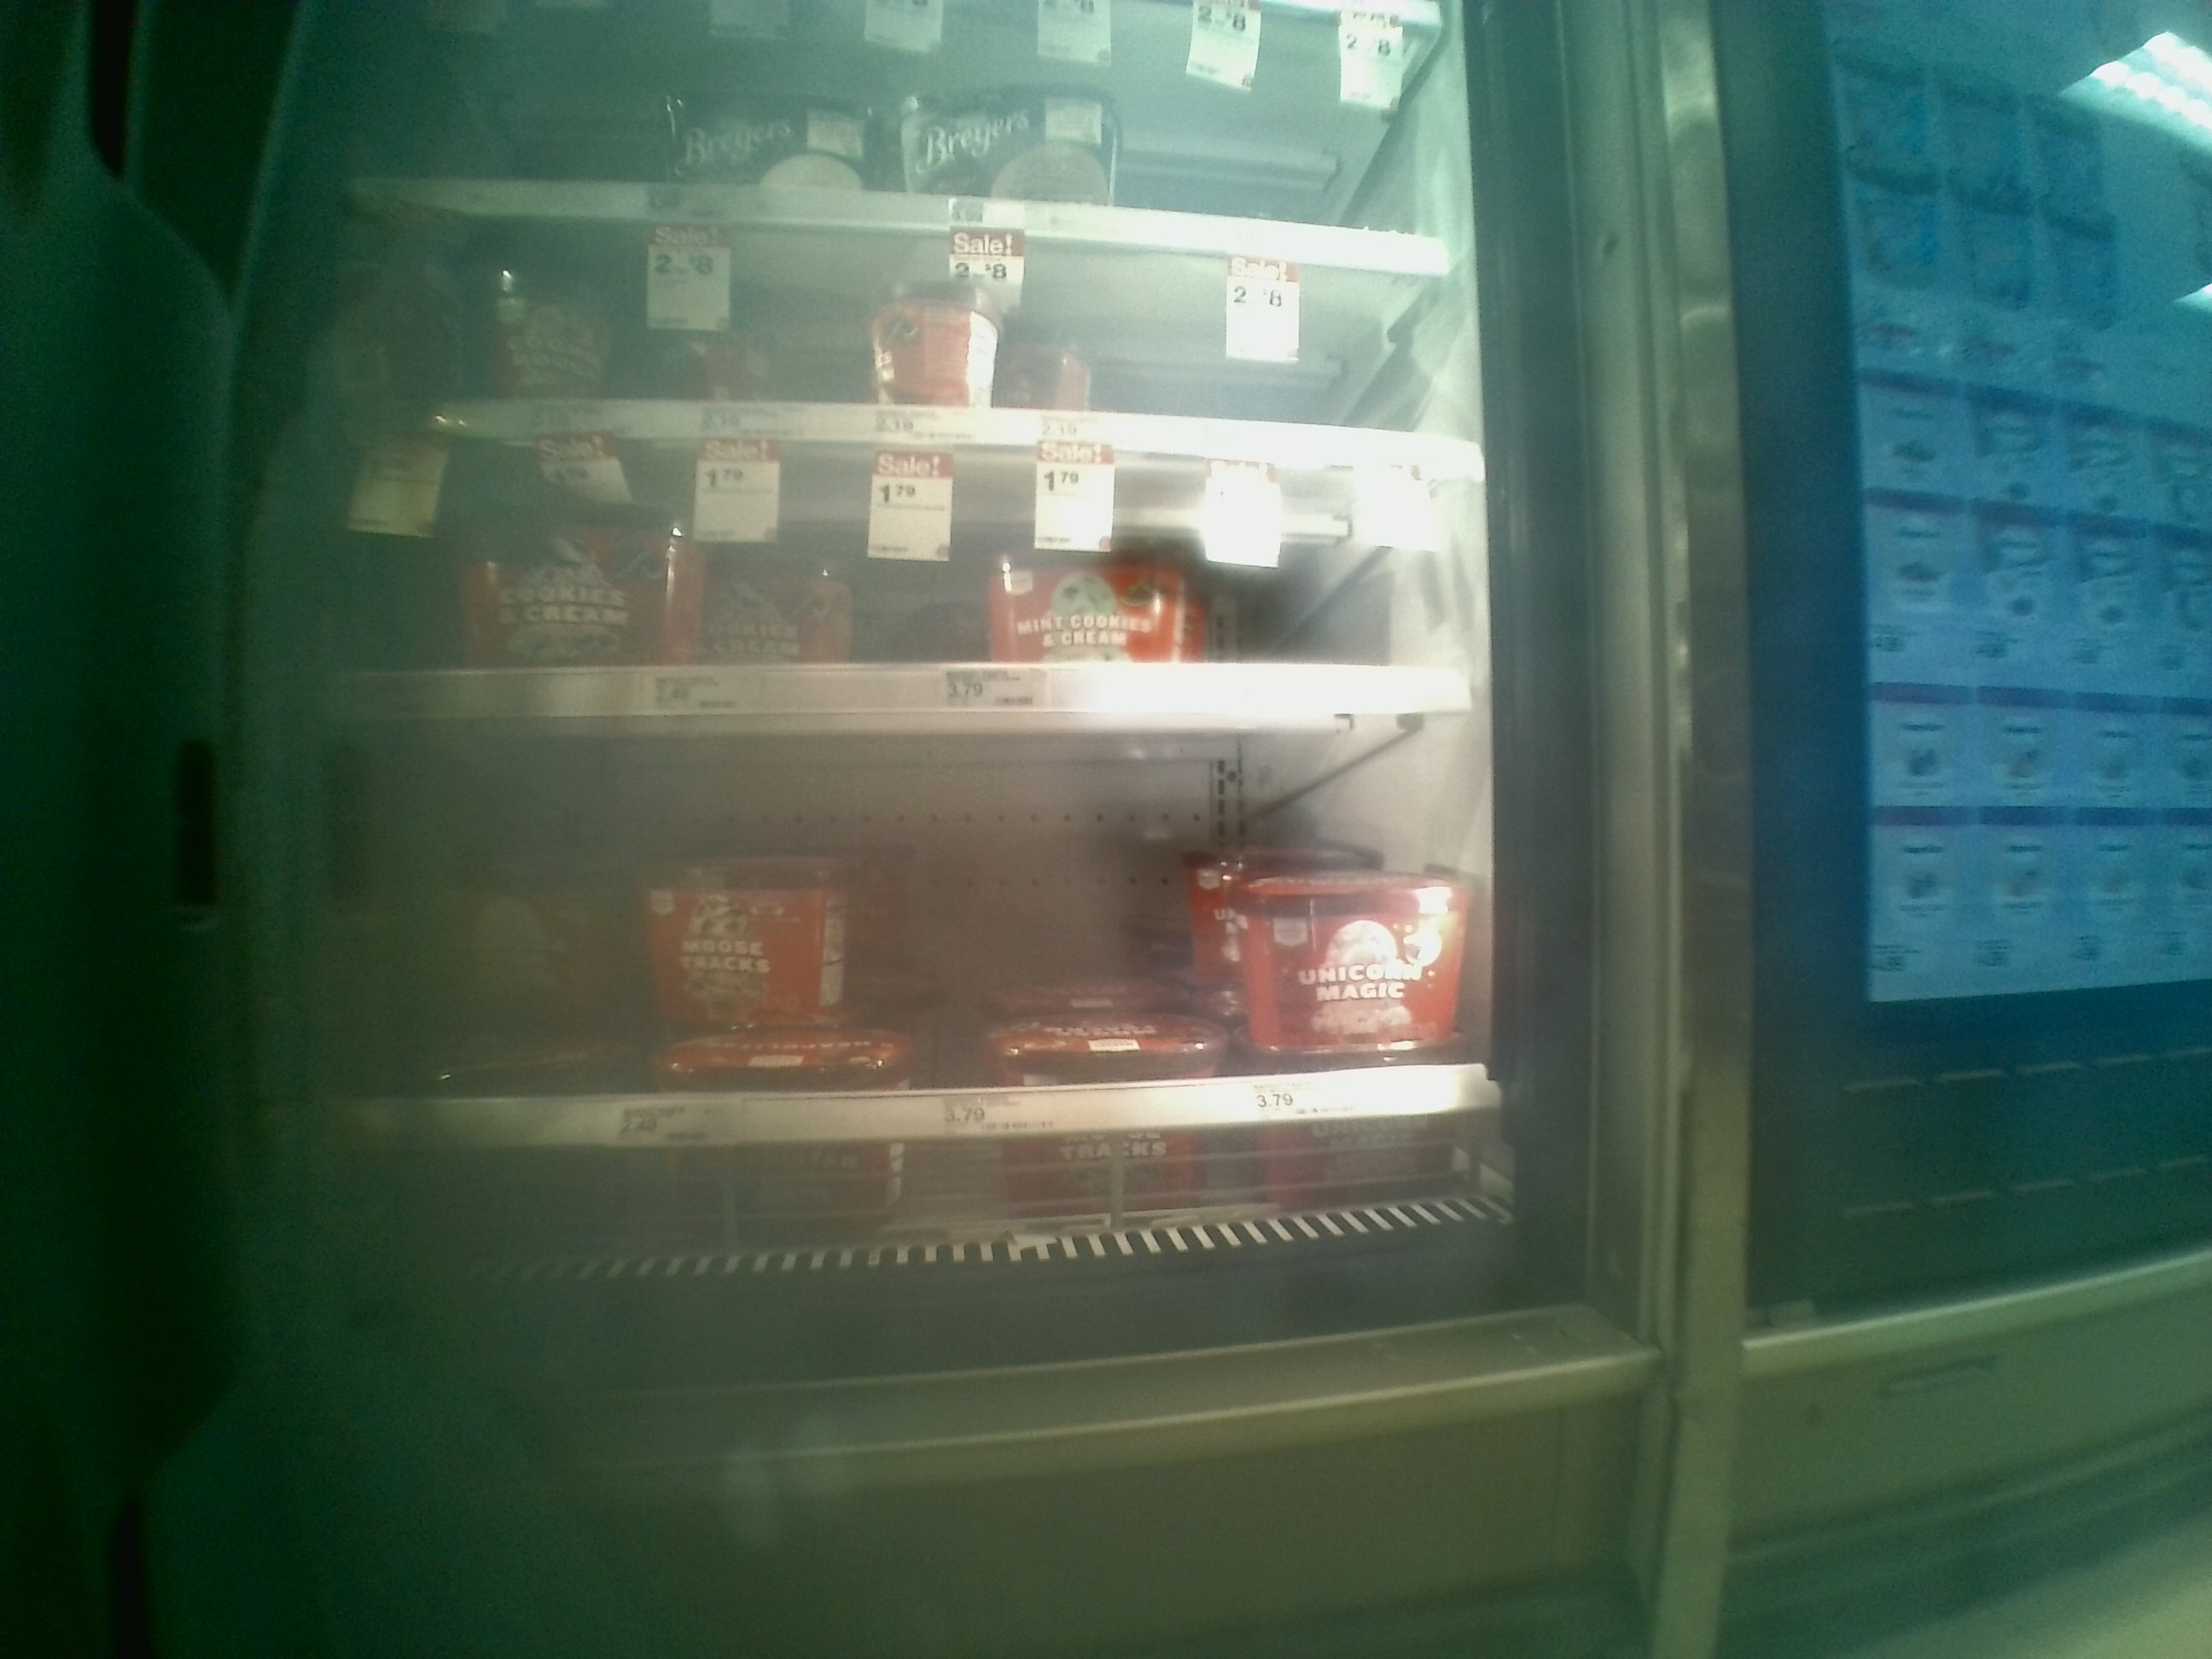shelf: (294, 721, 1526, 1199), (277, 432, 1529, 704)
